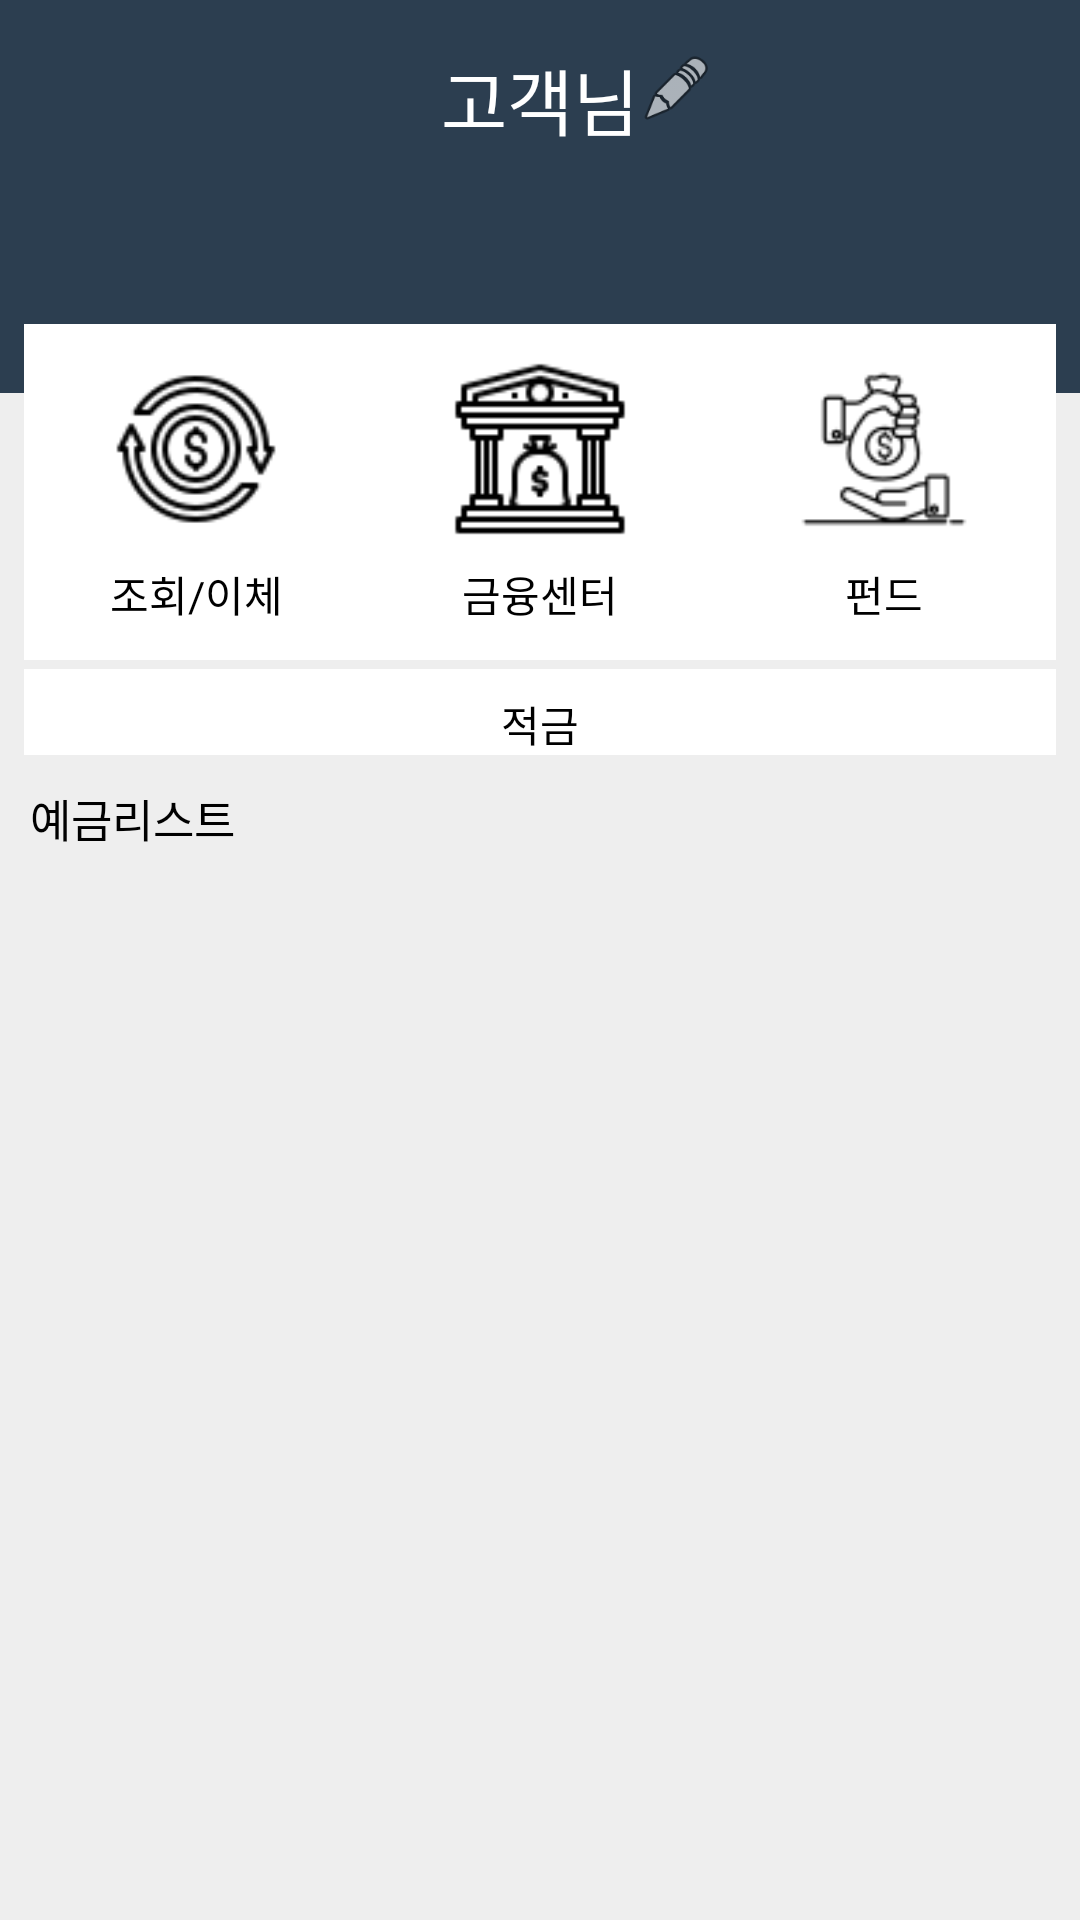

Where to tap for icons on this 1080×1920 app screen, as [x,y]:
edit: [676,88]
